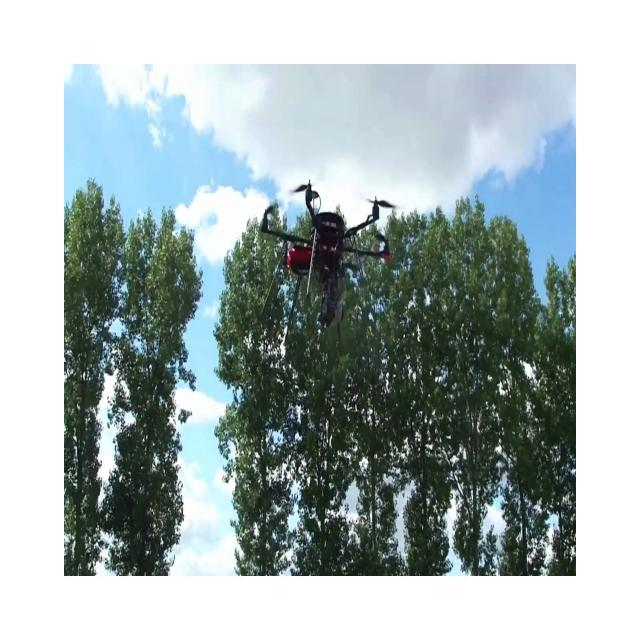drone: (258, 178, 396, 333)
